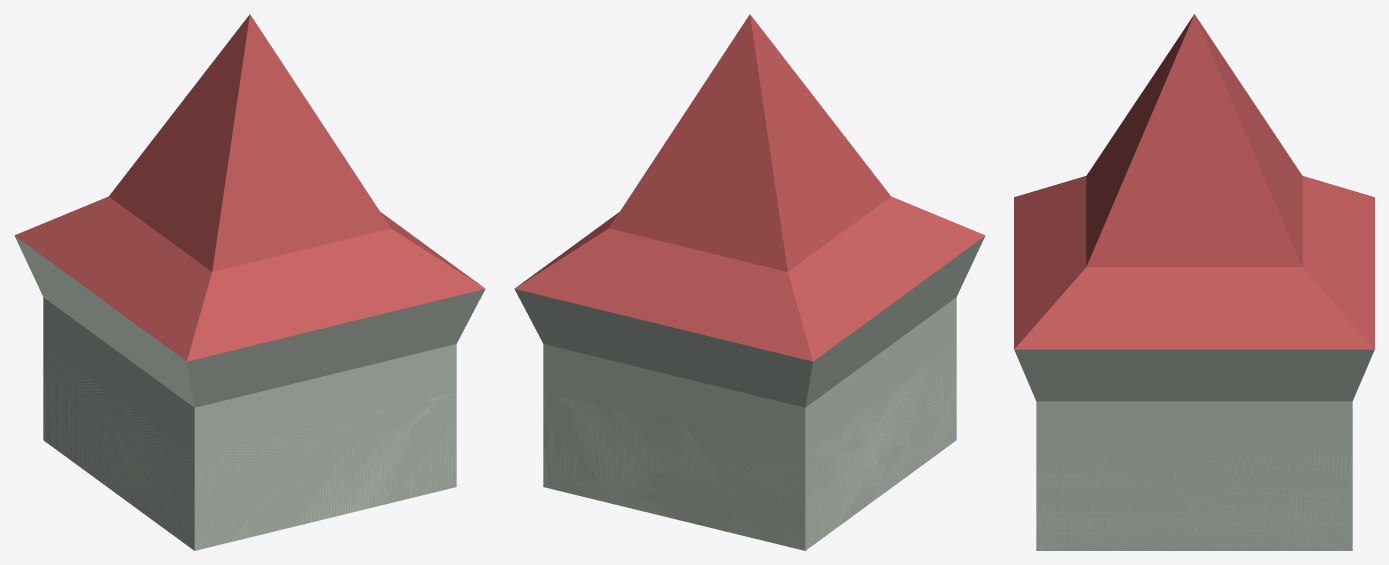
File: tile_026.obj
The picture shows the model from 3 angles, left to right: view 1: azimuth 30°, elevation 25°; view 2: azimuth 150°, elevation 25°; view 3: azimuth 270°, elevation 25°; orthographic projection. The views are drawn at different scales.
Visible parts, largest first — view 1: tile_026; view 2: tile_026; view 3: tile_026.
Boxes of the visible parts, x1,y1,x2,y2 form: tile_026: (14, 14, 485, 550); tile_026: (514, 14, 985, 550); tile_026: (1014, 14, 1374, 550).
Size of the model in its own units: 0.6727 by 0.9674 by 0.6727.
